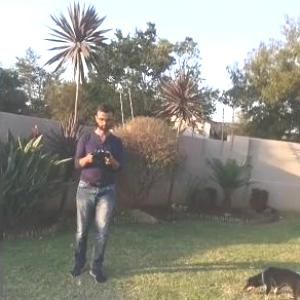follow: (66, 98, 122, 284)
null: (240, 261, 299, 299)
